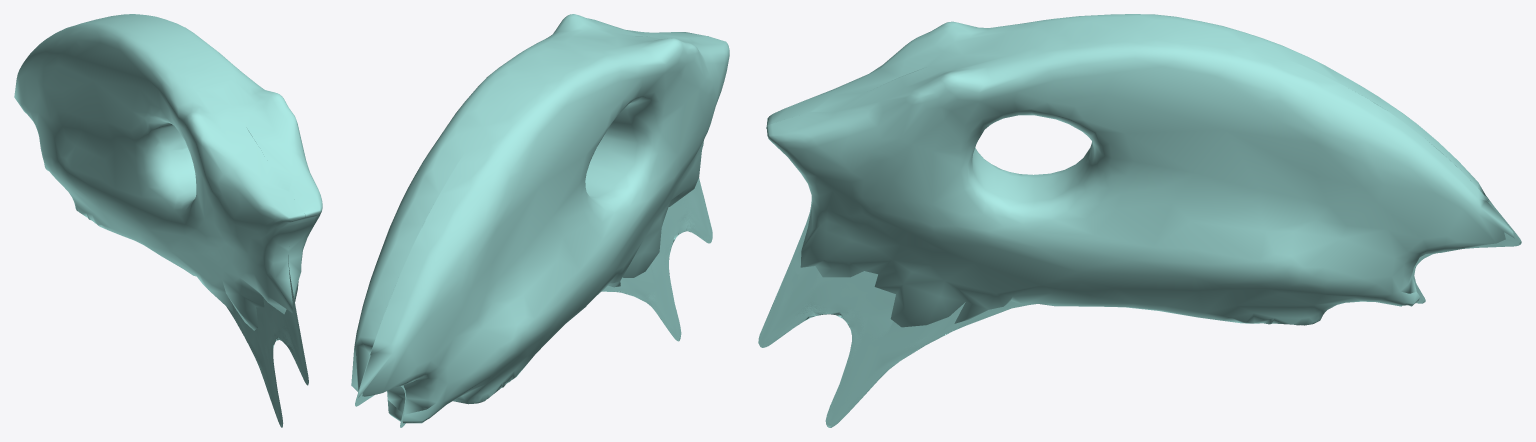
The model's file is Third_ventricle.glb.
3 views of the same model, side by side, from view 1: azimuth 30°, elevation 25°; view 2: azimuth 150°, elevation 25°; view 3: azimuth 270°, elevation 25° (orthographic). The views are drawn at different scales.
Parts seen in each view (by area): view 1: Third_ventricle_grp1.024; view 2: Third_ventricle_grp1.024; view 3: Third_ventricle_grp1.024.
Part boxes in pixels (left/top/right/bottom): Third_ventricle_grp1.024: left=14, top=14, right=322, bottom=427; Third_ventricle_grp1.024: left=351, top=14, right=729, bottom=427; Third_ventricle_grp1.024: left=758, top=14, right=1521, bottom=427.
Size of the model in its own units: 0.00757 by 0.0224 by 0.0389.
